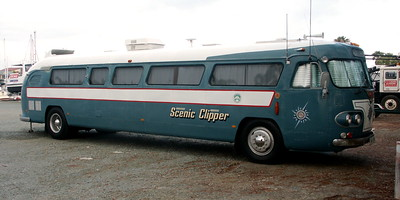bus: (19, 40, 376, 164)
